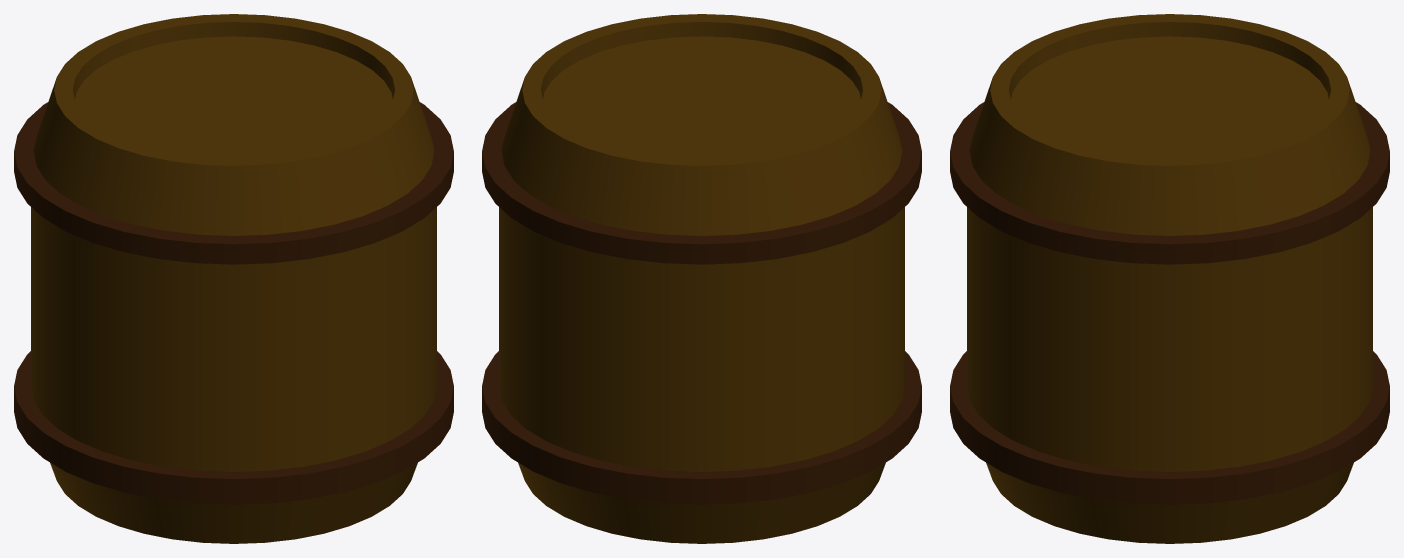
The model's file is barrel.fbx.
The picture shows the model from 3 angles, left to right: view 1: azimuth 30°, elevation 25°; view 2: azimuth 150°, elevation 25°; view 3: azimuth 270°, elevation 25°; orthographic projection.
Parts seen in each view (by area): view 1: Cylinder; view 2: Cylinder; view 3: Cylinder.
Boxes of the visible parts, bbox=[...] form: Cylinder: bbox=[14, 14, 453, 543]; Cylinder: bbox=[482, 14, 921, 543]; Cylinder: bbox=[950, 14, 1389, 543].
Size of the model in its own units: 211 by 200 by 211.
